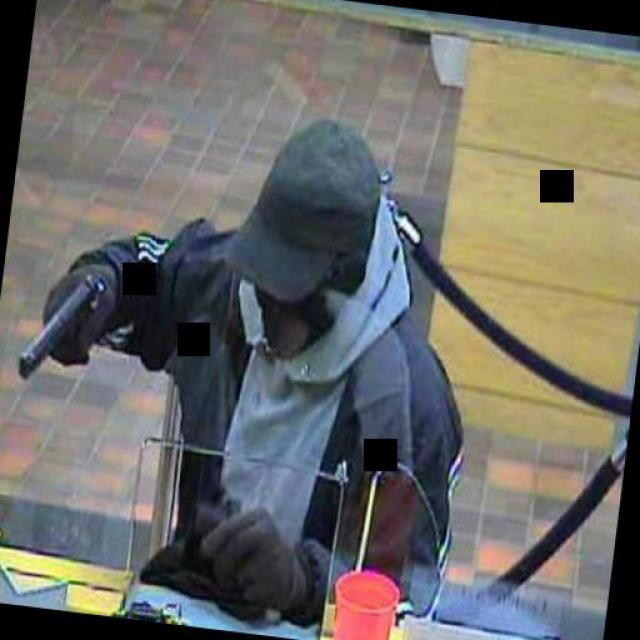gun: (15, 262, 104, 388)
